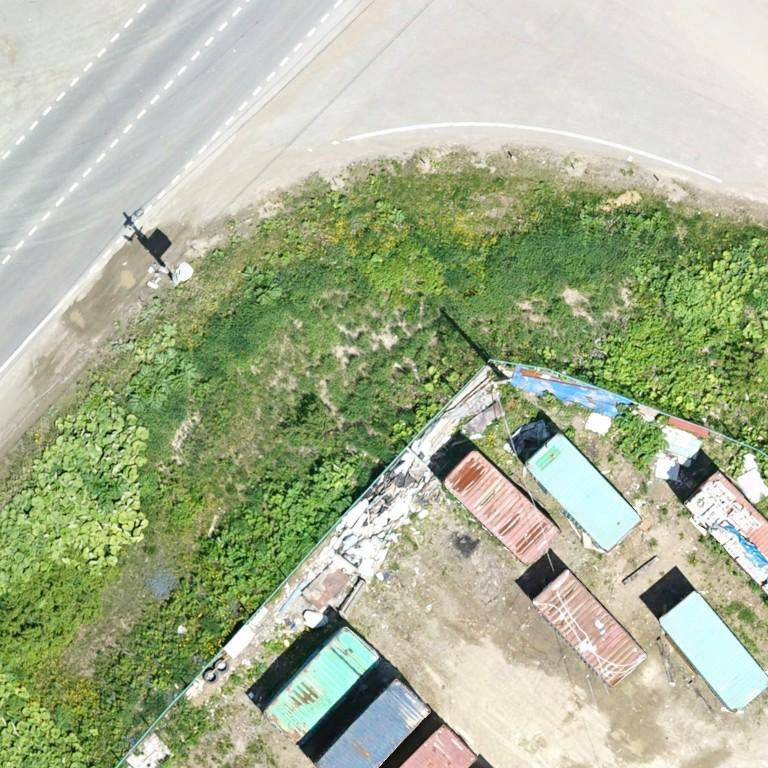hogweed: (130, 348, 193, 409), (217, 537, 266, 587), (648, 269, 701, 307), (82, 472, 121, 509)
